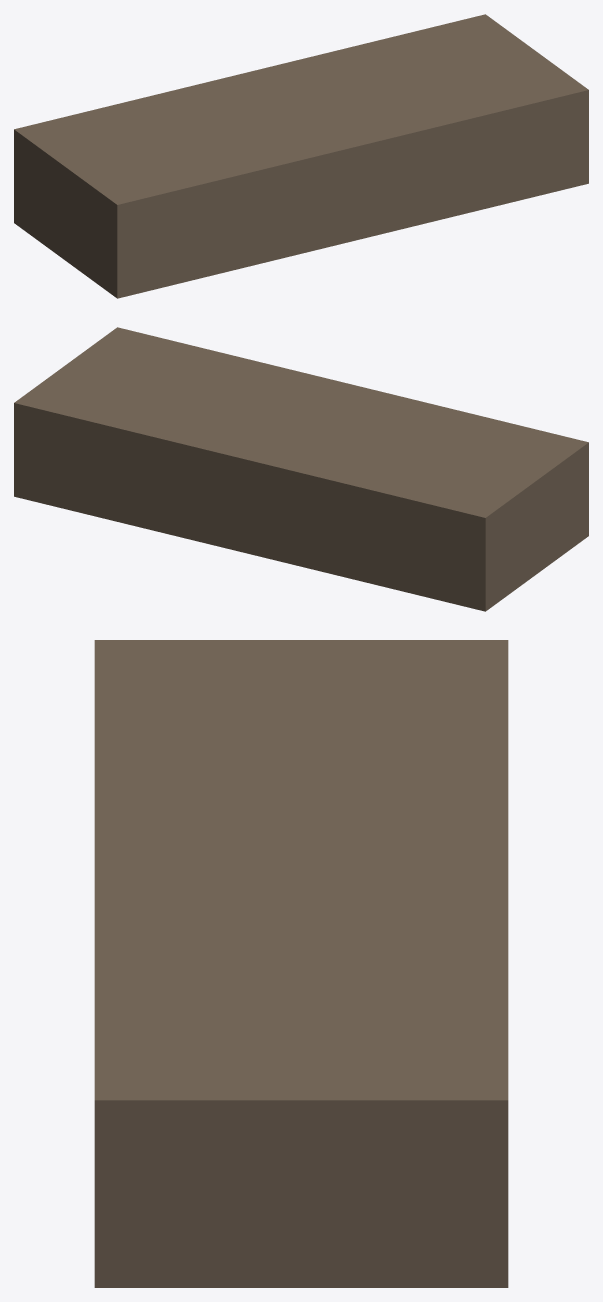
Rendered from Wall_01.fbx.
3 renders of one model, top to bottom at view 1: azimuth 30°, elevation 25°; view 2: azimuth 150°, elevation 25°; view 3: azimuth 270°, elevation 25°, orthographic. The views are drawn at different scales.
Visible parts, largest first — view 1: Wall_01; view 2: Wall_01; view 3: Wall_01.
Boxes of the visible parts, <box> form: Wall_01: <box>14,14,588,298</box>; Wall_01: <box>14,327,588,611</box>; Wall_01: <box>94,640,508,1287</box>.
Bounding box in the file's own units: 15.8 × 3 × 6.
